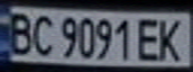0: (75, 15, 96, 60)
1: (112, 16, 136, 61)
9: (54, 12, 78, 59), (93, 15, 115, 61)
B: (3, 9, 36, 56)
C: (27, 11, 57, 57)
E: (136, 15, 163, 62)
K: (154, 15, 190, 63)
